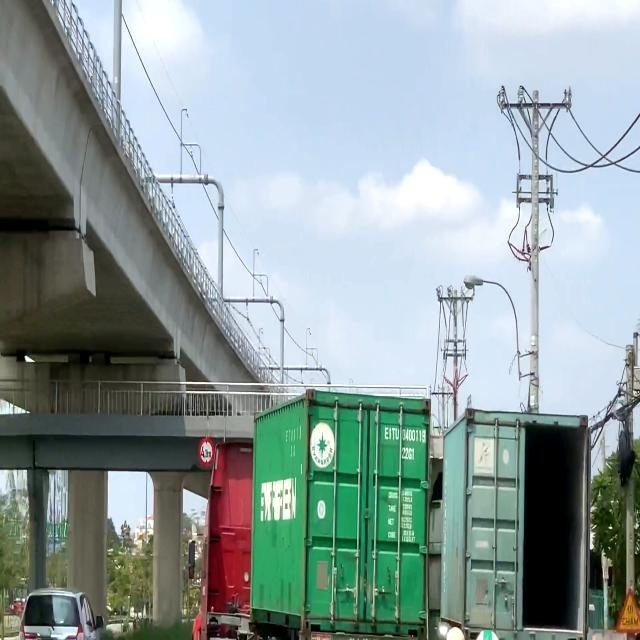bien_cam: (198, 437, 215, 467)
